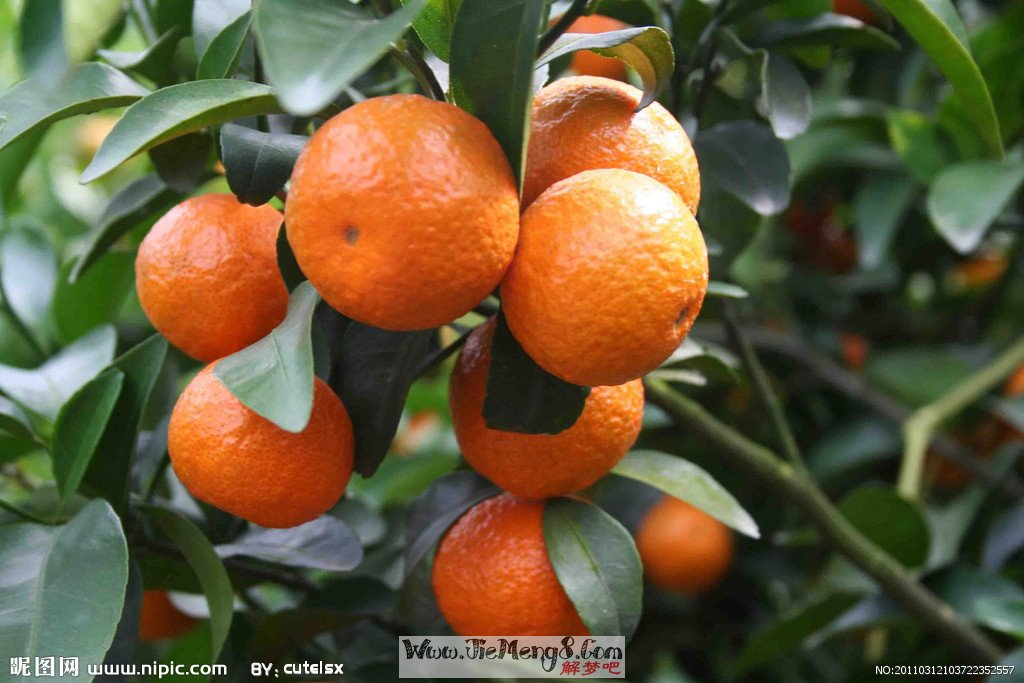orange: (285, 94, 520, 329), (503, 165, 709, 381), (452, 303, 646, 495), (436, 497, 645, 656), (510, 74, 703, 242), (168, 353, 354, 525), (137, 189, 318, 365), (615, 481, 734, 599), (535, 12, 649, 123)
